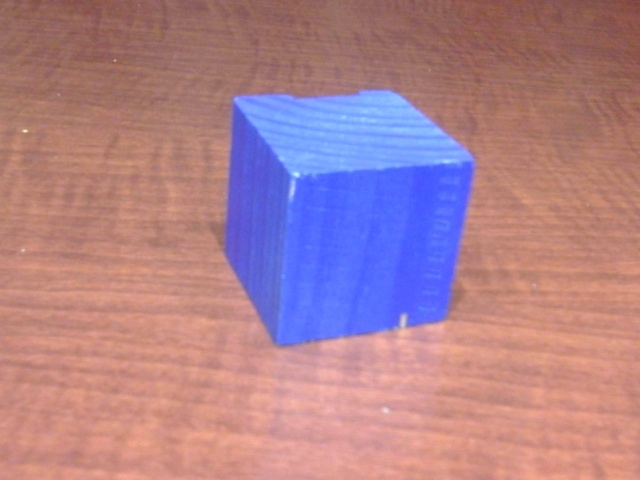BlueBlock: (227, 88, 474, 349)
